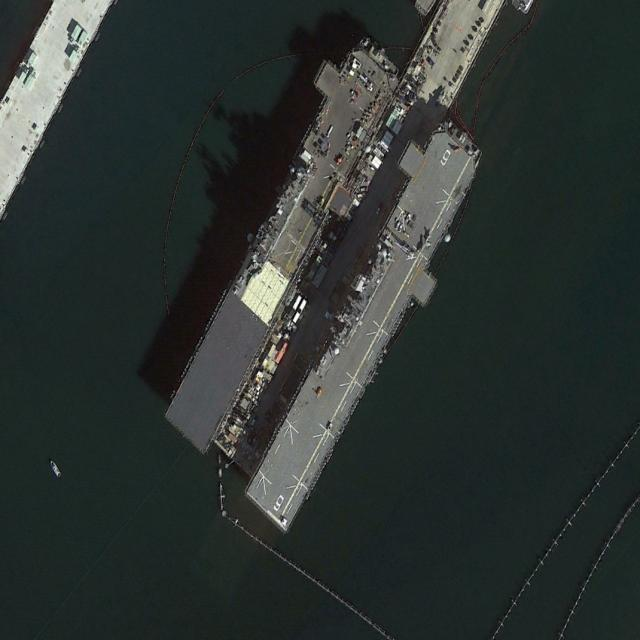Landing: (230, 97, 499, 551), (148, 13, 416, 467)
Yacht: (49, 458, 62, 479)
